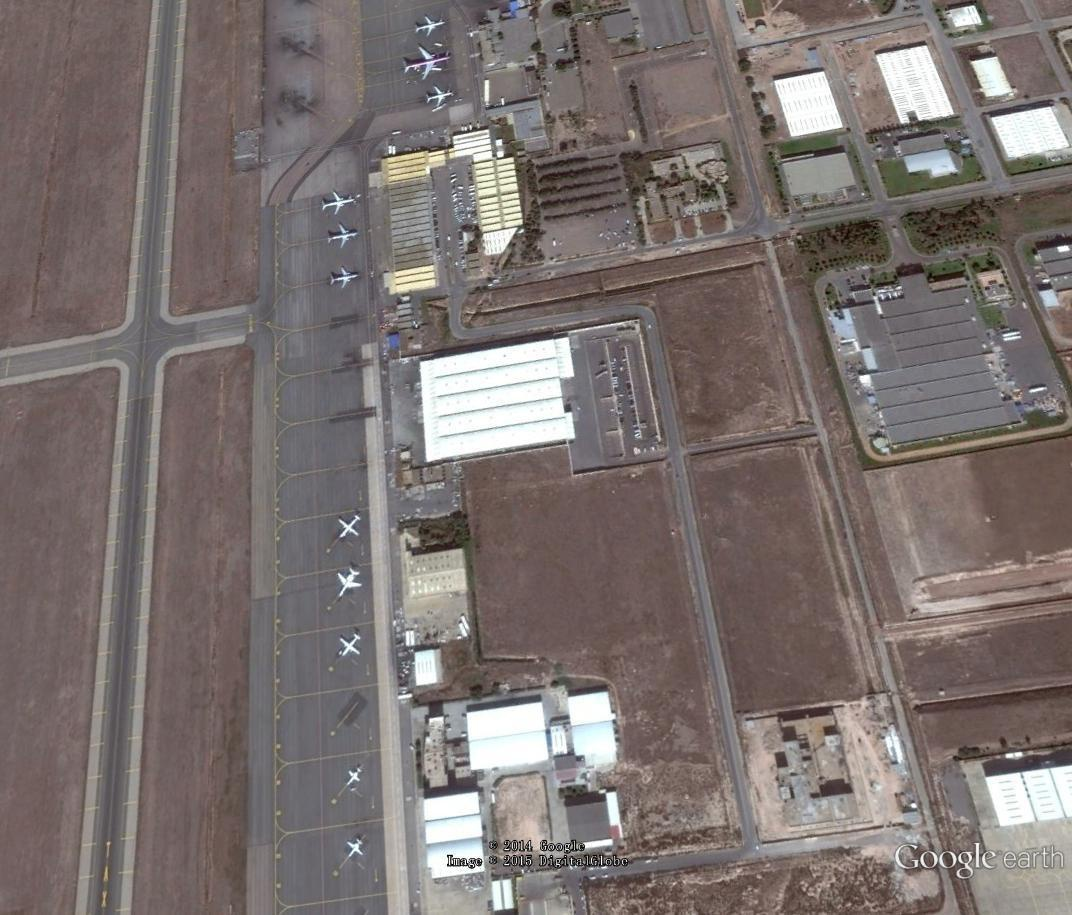aircraft: (397, 43, 457, 87), (316, 186, 362, 219), (332, 564, 368, 606), (331, 628, 367, 669), (323, 219, 362, 253), (334, 508, 367, 547), (410, 12, 451, 42), (325, 264, 364, 294), (419, 84, 458, 109), (343, 835, 373, 862), (343, 765, 368, 789)
